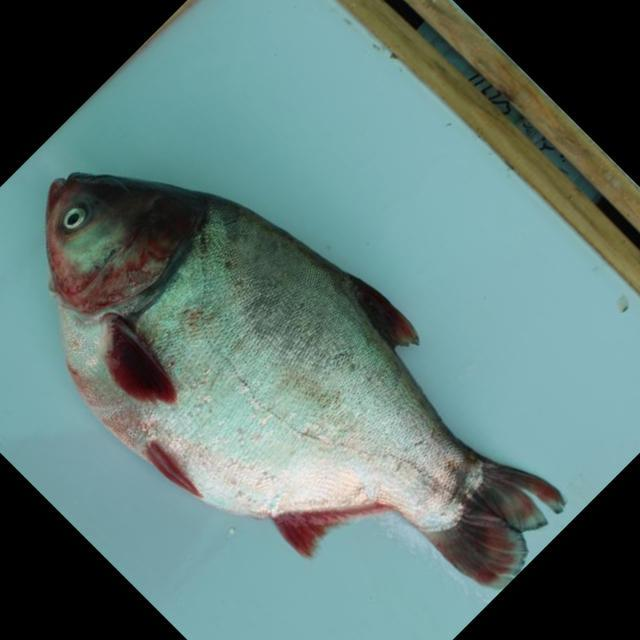SilverCarp: (33, 155, 574, 595)
